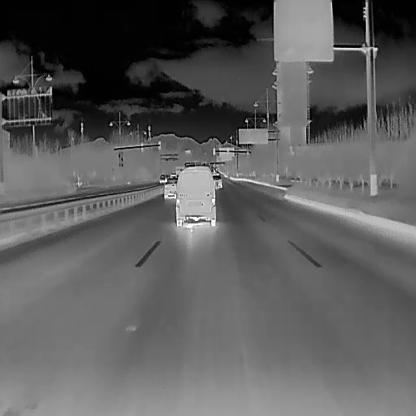car: (174, 165, 216, 226), (163, 180, 176, 199), (211, 173, 222, 187), (159, 172, 166, 183)
